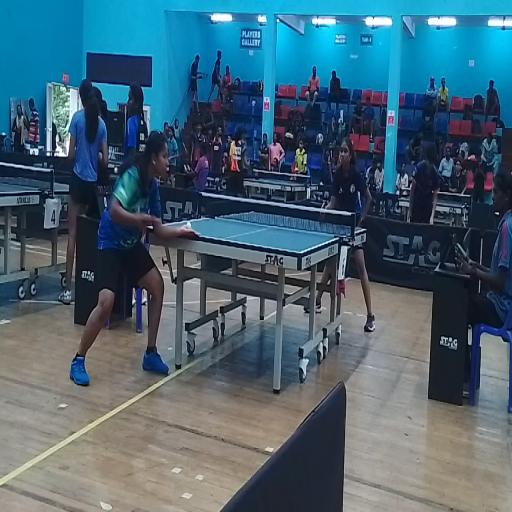ball: (186, 222, 192, 232)
